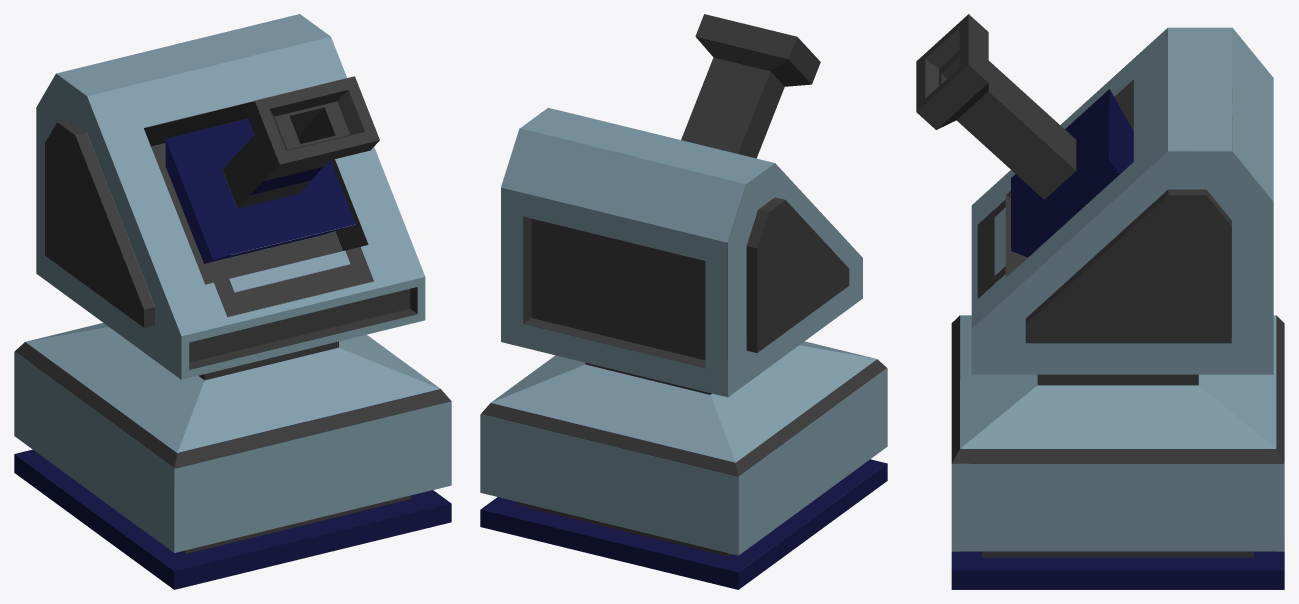
The model's file is Torreta Moderna Final.fbx.
The picture shows the model from 3 angles, left to right: view 1: azimuth 30°, elevation 25°; view 2: azimuth 150°, elevation 25°; view 3: azimuth 270°, elevation 25°; orthographic projection. The views are drawn at different scales.
Parts seen in each view (by area): view 1: Cube, Soporte; view 2: Cube, Soporte; view 3: Cube, Soporte.
Part boxes in pixels (<box>): Cube: <box>36,14,425,379</box>; Soporte: <box>14,323,451,589</box>; Cube: <box>501,14,862,397</box>; Soporte: <box>480,341,887,589</box>; Cube: <box>916,14,1273,374</box>; Soporte: <box>951,315,1284,589</box>.
Size of the model in its own units: 200 by 318 by 221.
Materials: 2 (2 with a texture image).
